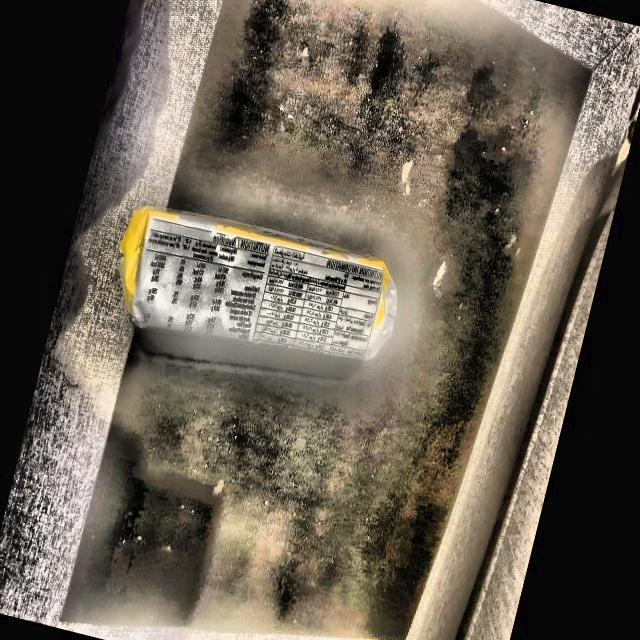lemon puff: (113, 209, 397, 367)
